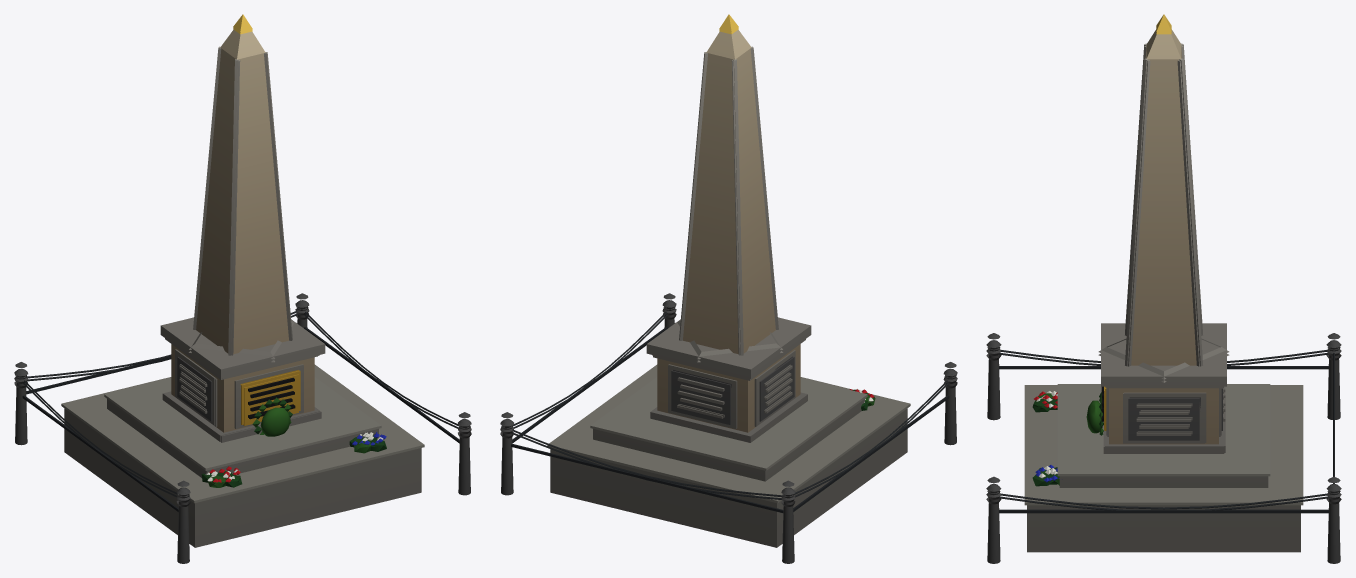
File: Monument.fbx
3 renders of one model, left to right at view 1: azimuth 30°, elevation 25°; view 2: azimuth 150°, elevation 25°; view 3: azimuth 270°, elevation 25°, orthographic. The views are drawn at different scales.
Visible parts, largest first — view 1: Monument_LOD0; view 2: Monument_LOD0; view 3: Monument_LOD0.
Part boxes in pixels (x1,y1,x2,y2): Monument_LOD0: (14, 14, 471, 563); Monument_LOD0: (500, 14, 957, 563); Monument_LOD0: (986, 14, 1341, 563).
Size of what is drawn, in the model's own units: 6.48 by 9.66 by 6.48.
1 material, 1 textured.
